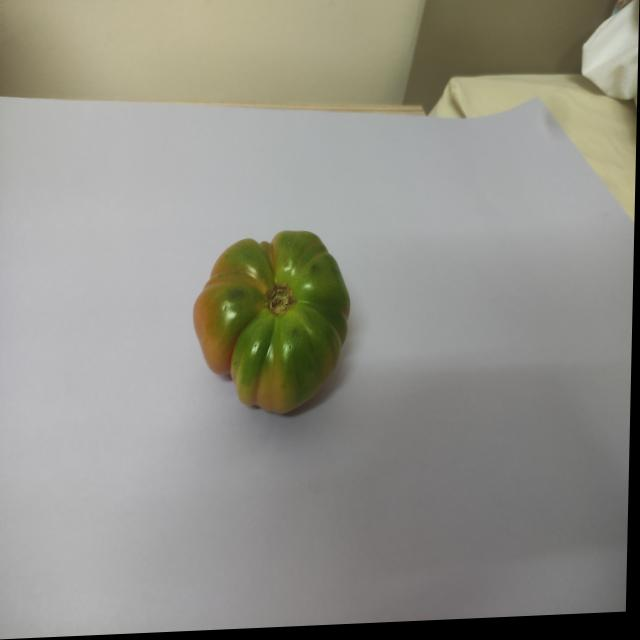yesil: (179, 217, 371, 428)
